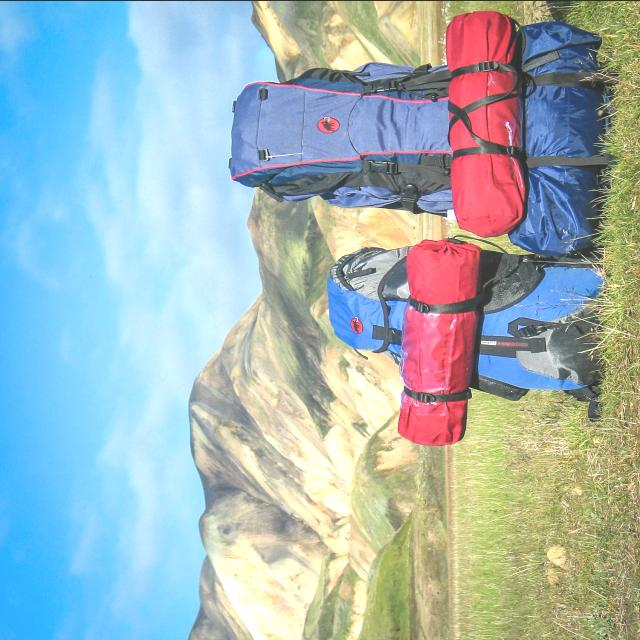backpack: (322, 250, 622, 398), (229, 62, 455, 218)
